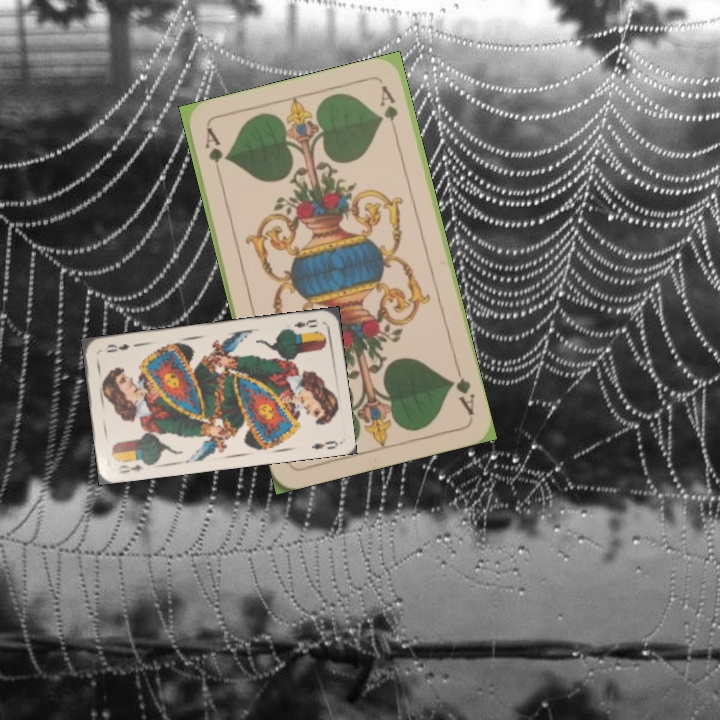EO: (284, 315, 320, 335), (114, 460, 146, 476)
GA: (446, 361, 478, 418), (200, 124, 226, 183)
